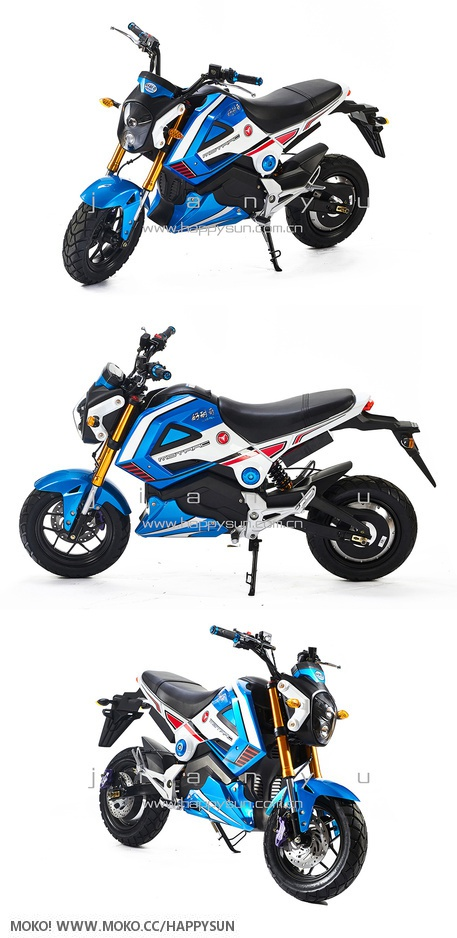non-vehicle: (14, 317, 428, 581), (59, 19, 386, 288), (87, 627, 370, 905)
